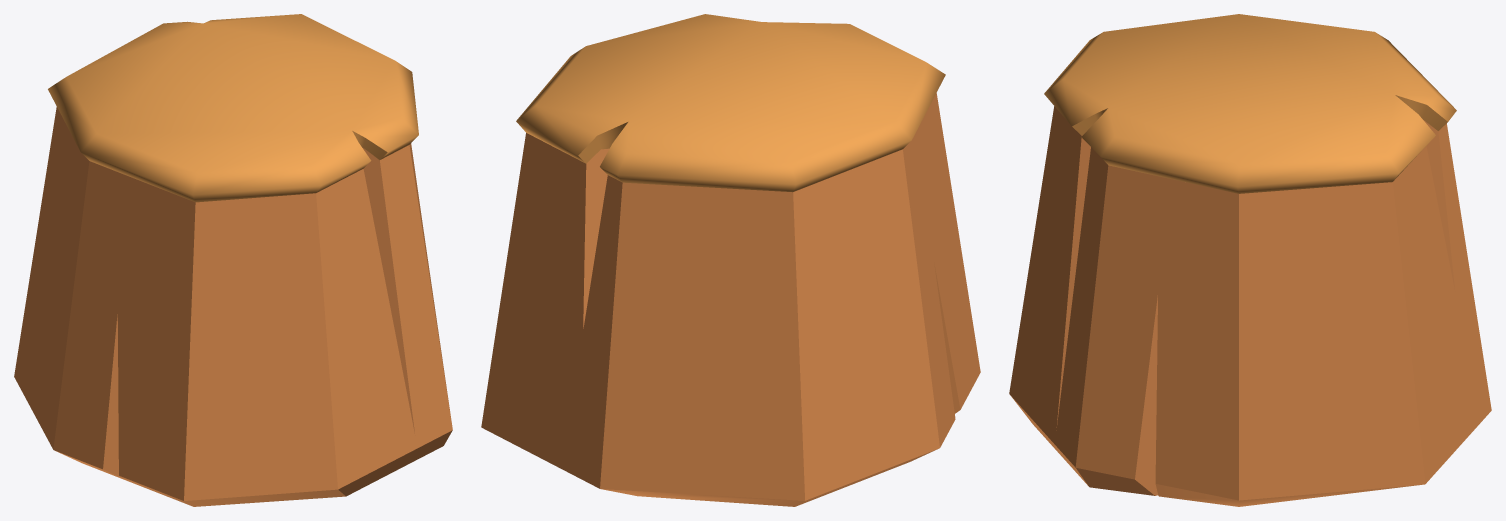
The model's file is Rock_15.fbx.
3 renders of one model, left to right at view 1: azimuth 30°, elevation 25°; view 2: azimuth 150°, elevation 25°; view 3: azimuth 270°, elevation 25°, orthographic. The views are drawn at different scales.
Parts seen in each view (by area): view 1: Rock_15, Rock_15_Snow; view 2: Rock_15, Rock_15_Snow; view 3: Rock_15, Rock_15_Snow.
Boxes of the visible parts, box(x1,y1,x2,y2) form: Rock_15: box(14, 107, 452, 506); Rock_15_Snow: box(48, 14, 418, 202); Rock_15: box(481, 93, 980, 506); Rock_15_Snow: box(516, 14, 945, 192); Rock_15: box(1009, 106, 1491, 506); Rock_15_Snow: box(1044, 14, 1456, 193).
Bounding box in the file's own units: 259 × 216 × 272.
